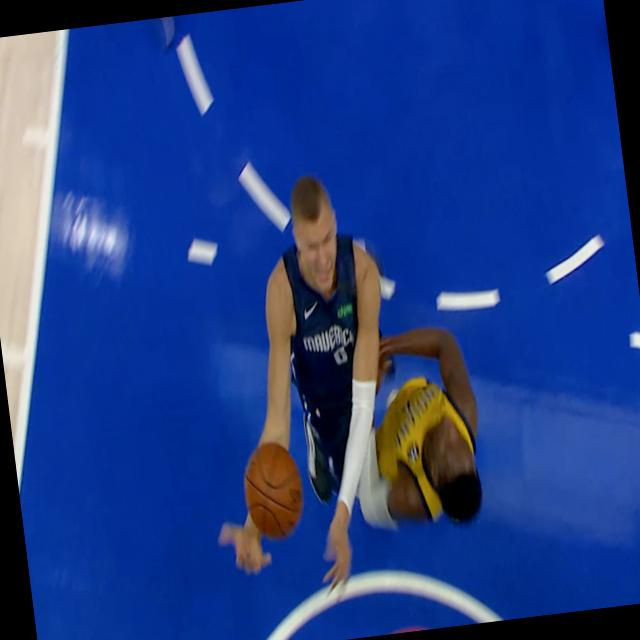foul: (154, 121, 527, 638)
